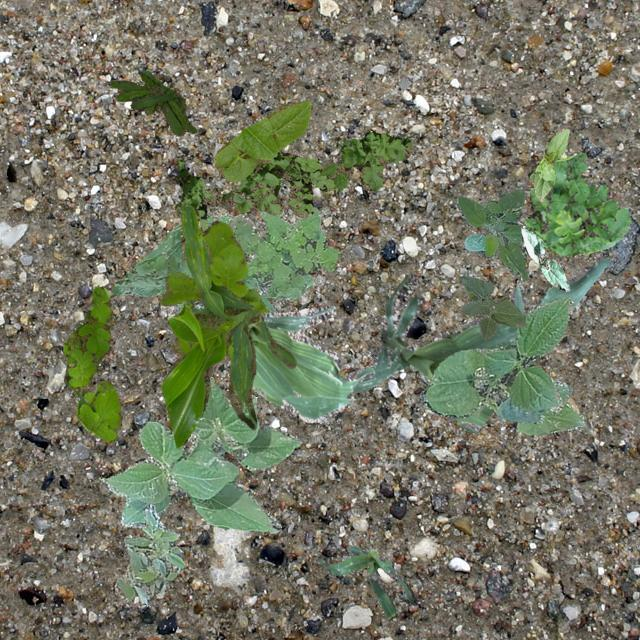crop: (352, 255, 610, 432), (160, 204, 294, 446), (98, 376, 300, 532), (418, 294, 572, 422), (246, 304, 374, 422), (418, 374, 584, 434), (212, 100, 310, 180), (318, 544, 416, 618), (456, 188, 532, 280), (458, 274, 524, 338), (520, 224, 568, 290), (532, 127, 568, 200)
weed: (174, 130, 412, 232), (112, 205, 338, 312), (158, 220, 268, 358), (524, 152, 630, 256), (62, 284, 121, 442), (114, 502, 184, 602), (110, 68, 196, 134)
